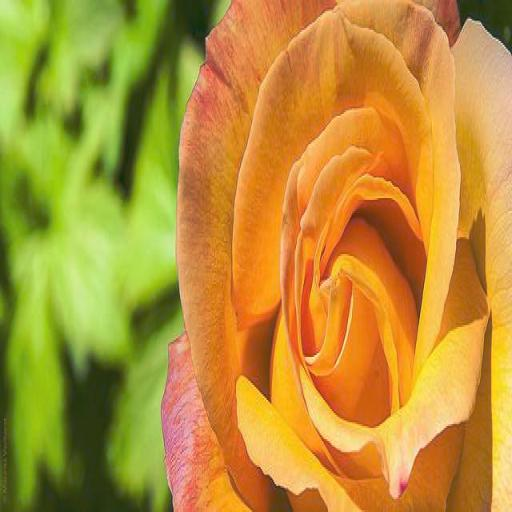rose: (156, 0, 510, 512)
